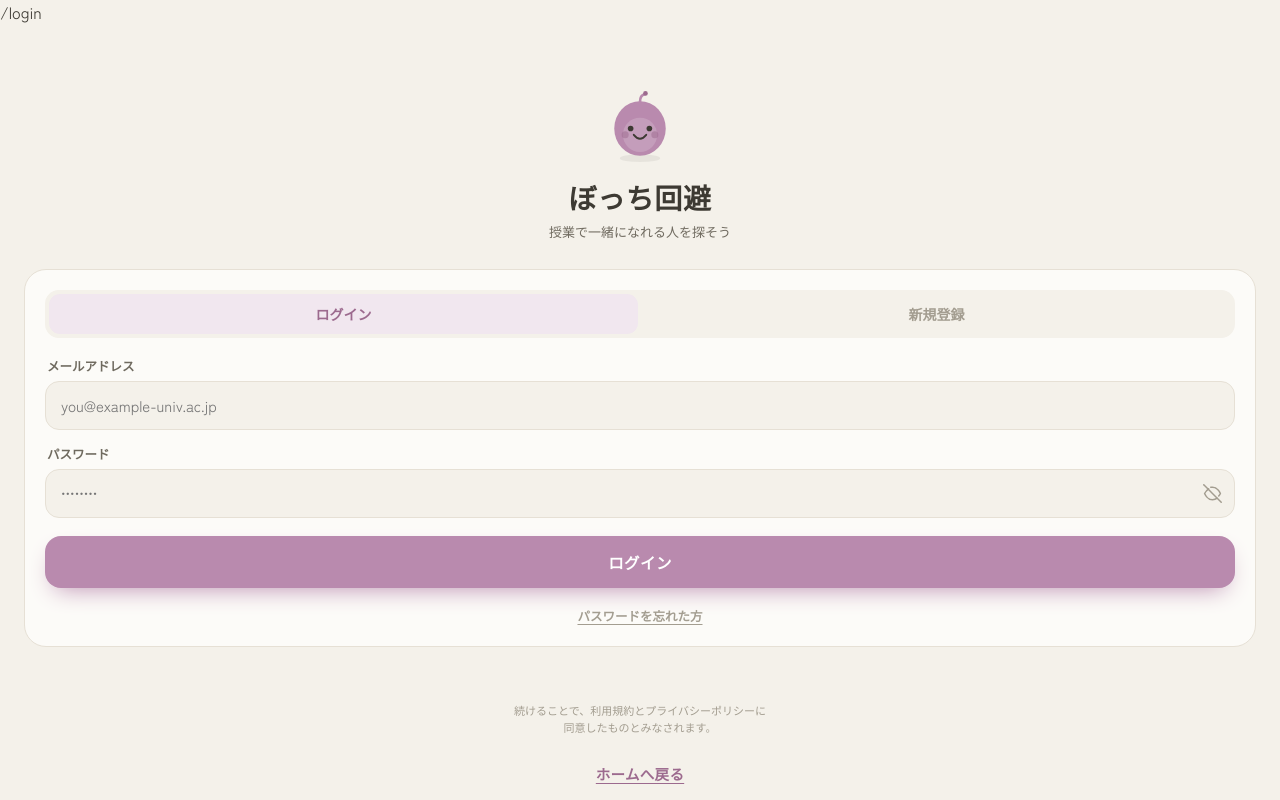
Scenario: routing and auth guard › login success returns to the guarded page from location state
In the field labelled "メールアドレス": (640, 406) [45, 381, 1235, 430], type "test@example.com"
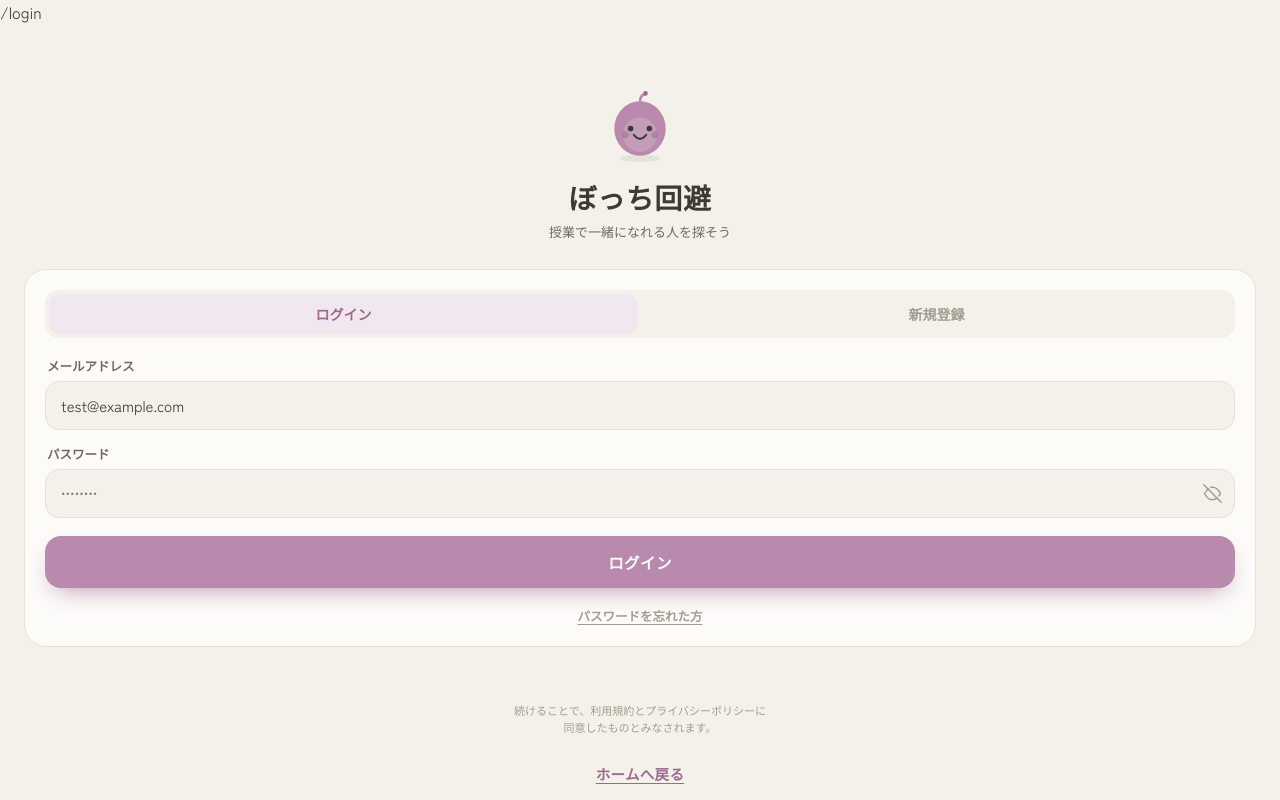
In the password field labelled "パスワード": (640, 494) [45, 469, 1235, 518], type "password123"
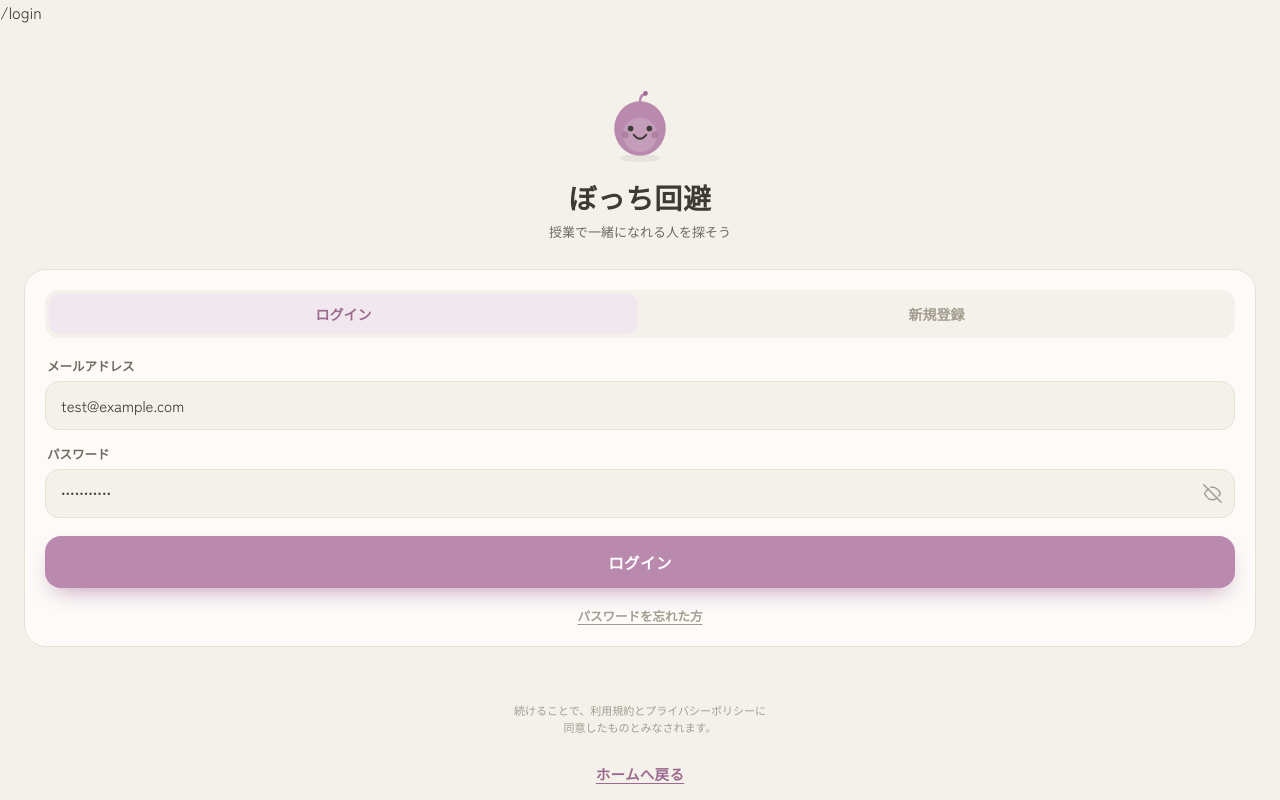
Submit the form, box [45, 356, 1235, 588]
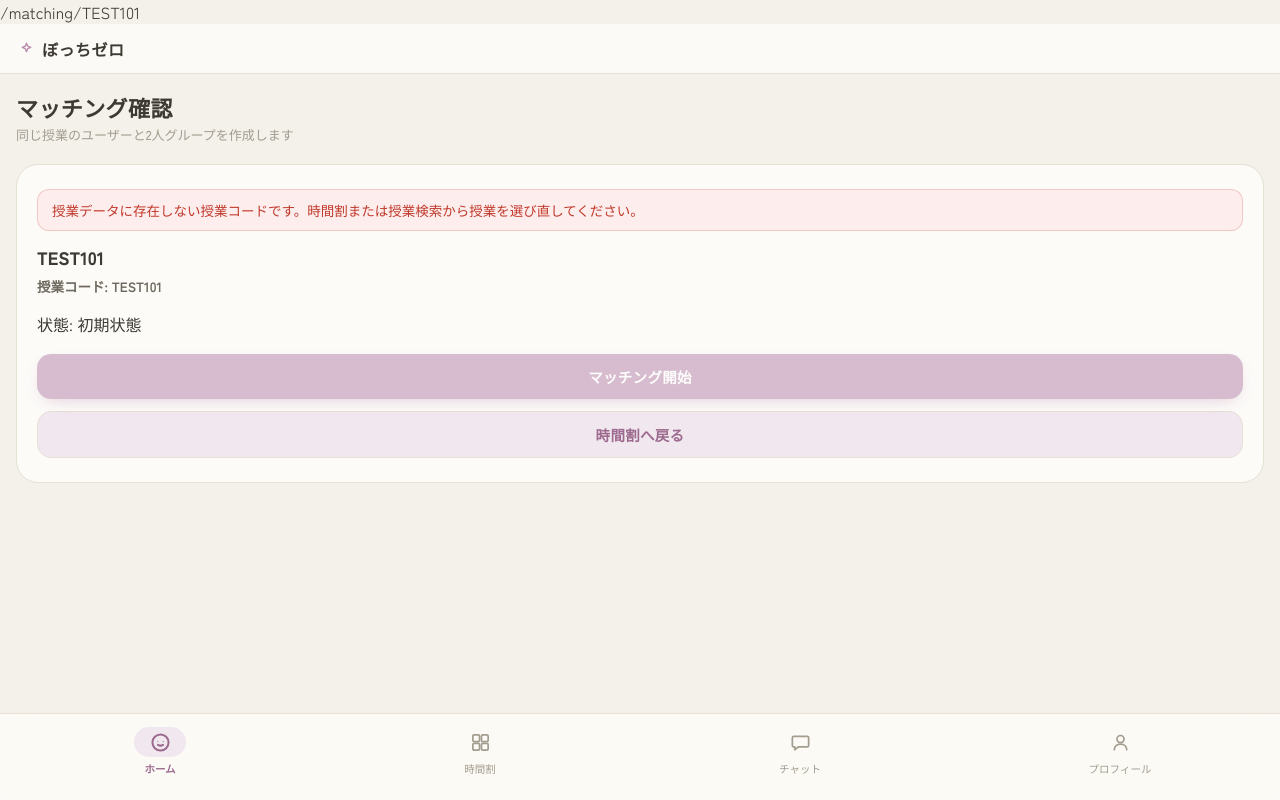
Check: the text with test id "location" reads "/matching/TEST101", box [0, 0, 140, 24]
